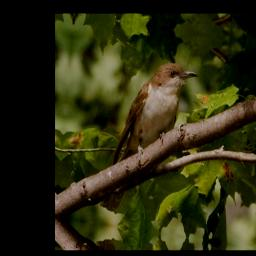Cuckoo: (99, 50, 200, 226)
